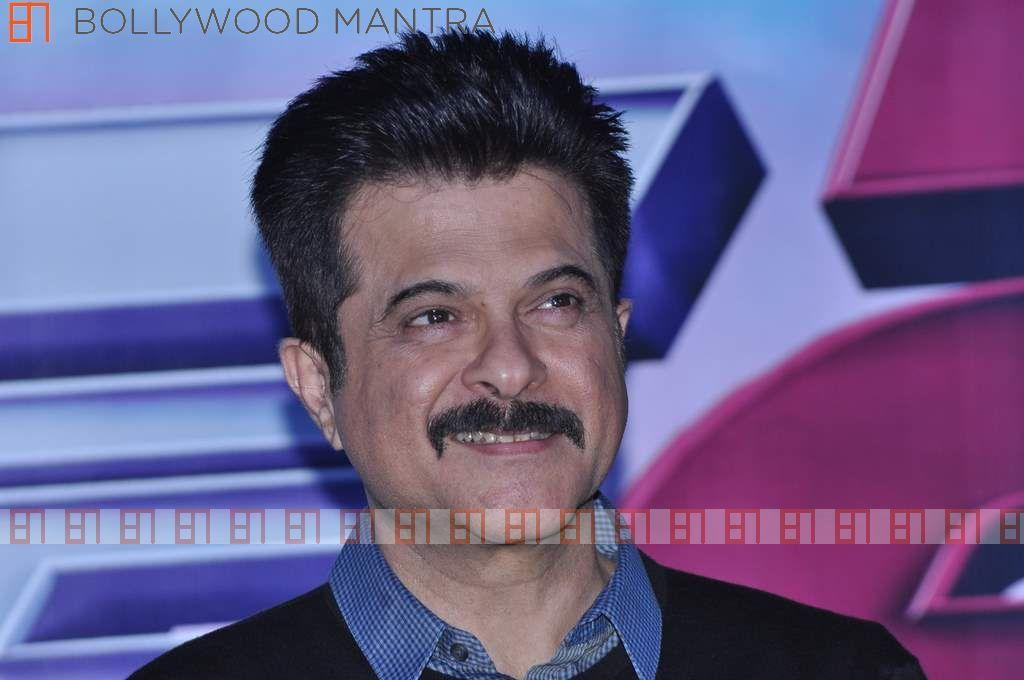face: (332, 172, 626, 544)
